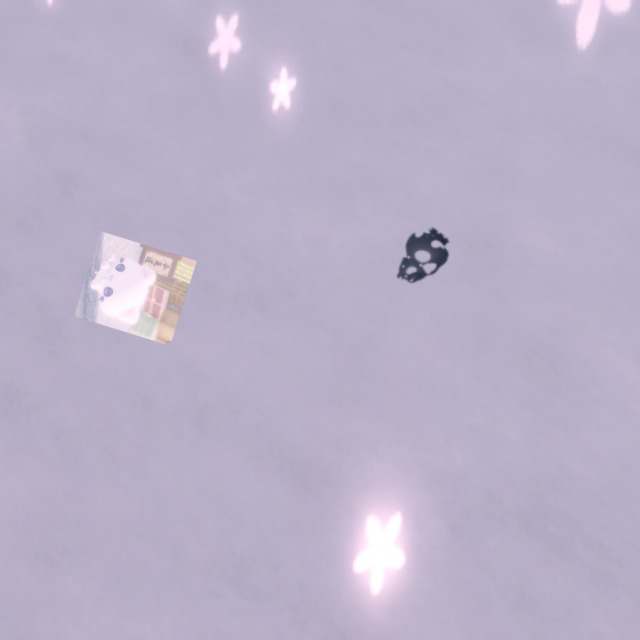urso_branco: (74, 231, 197, 346)
urso_preto: (380, 217, 460, 300)
